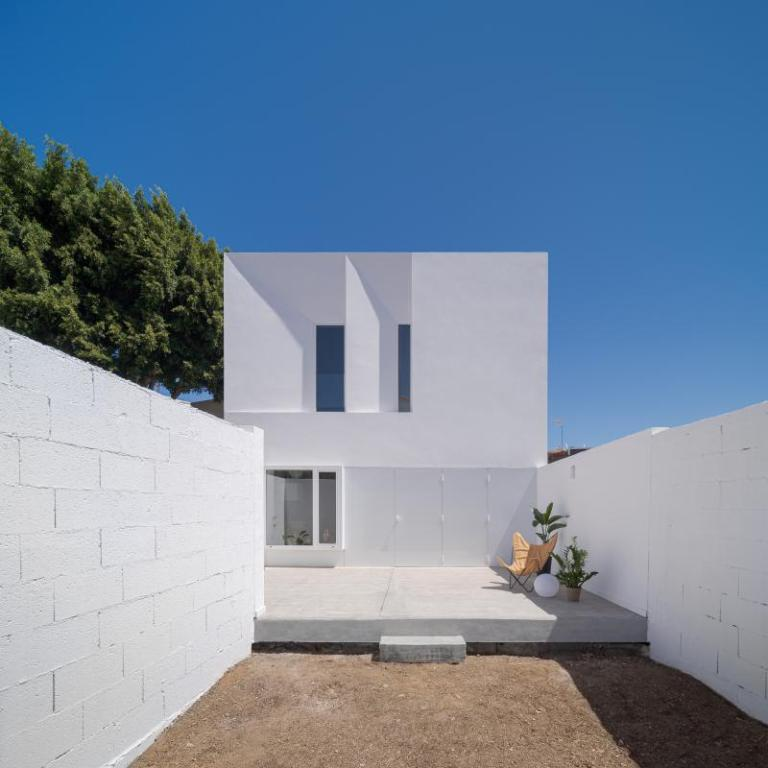white-walls: (275, 262, 538, 465)
